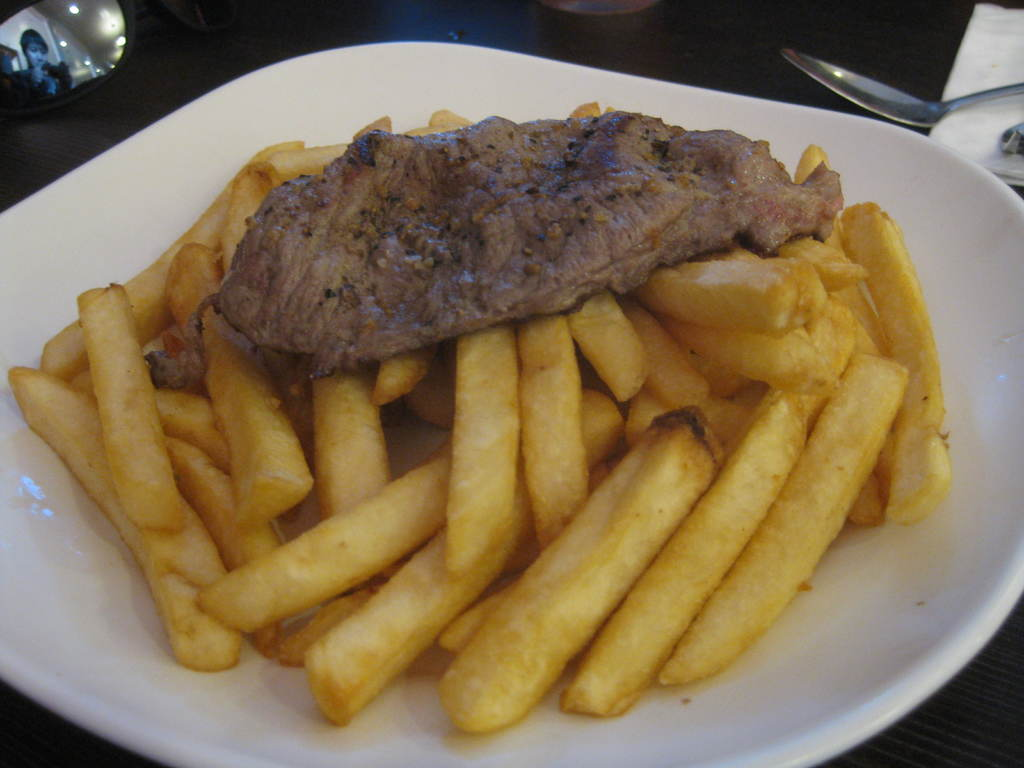French fries: (14, 90, 952, 745)
